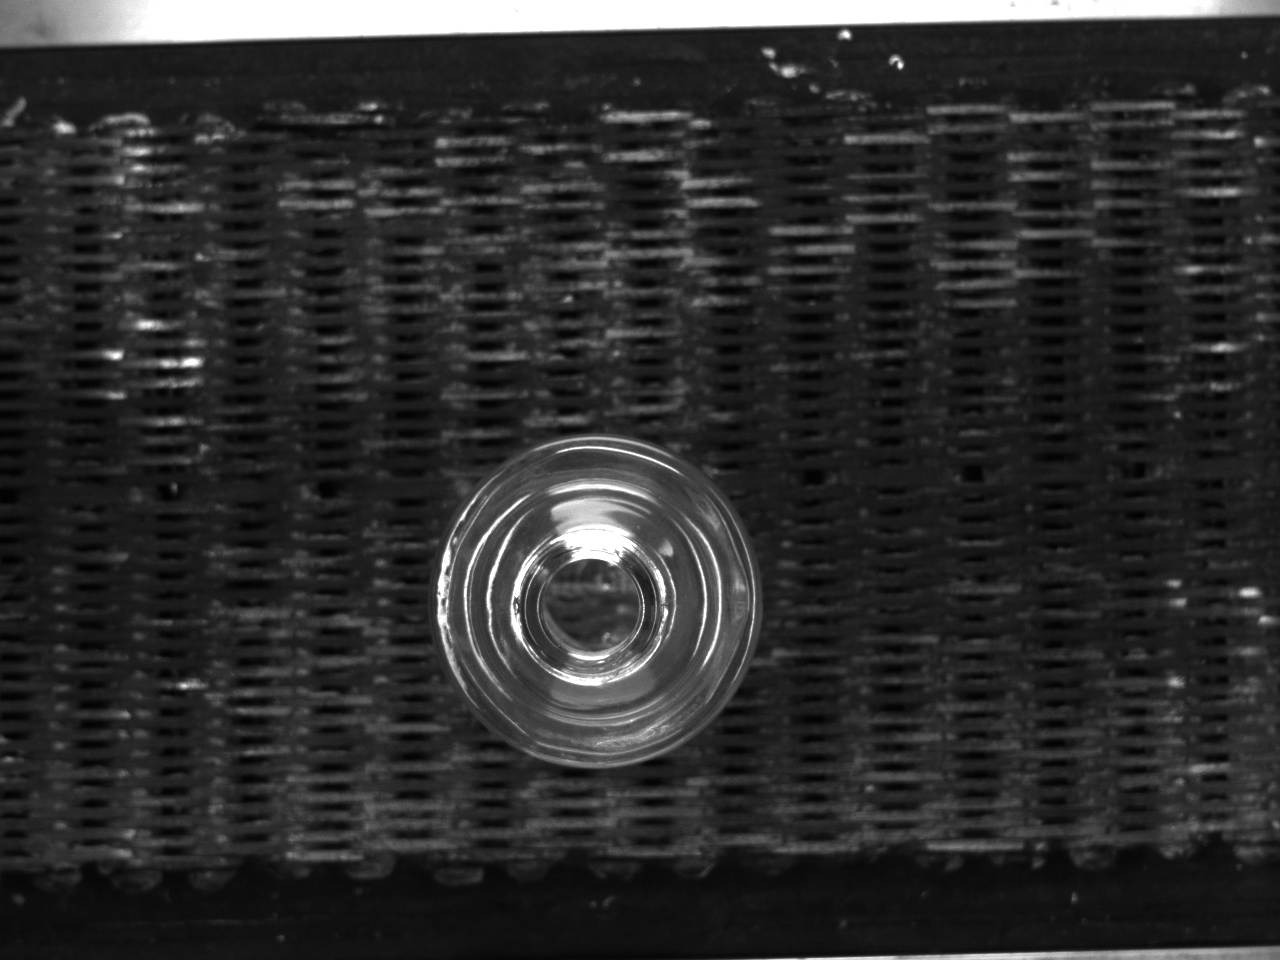bottleneck: (509, 527, 678, 686)
